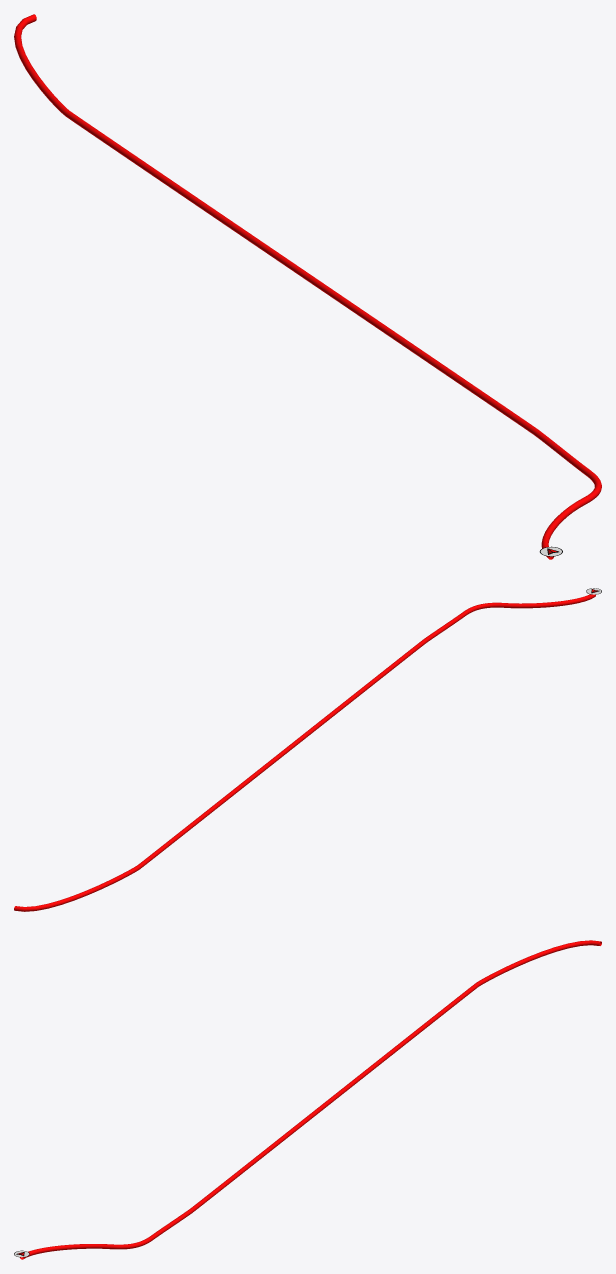
Rendered from route_99d820c2-7baf-4192-a704-b6ee743a397e_de_single.glb.
3 views of the same model, one above another, from view 1: azimuth 30°, elevation 25°; view 2: azimuth 150°, elevation 25°; view 3: azimuth 330°, elevation 25° (orthographic). The views are drawn at different scales.
Parts seen in each view (by area): view 1: B10; view 2: B10; view 3: B10.
Part boxes in pixels (box(x1,y1,x2,y2)): B10: box(14, 14, 601, 559); B10: box(14, 594, 595, 911); B10: box(20, 940, 601, 1259).
Size of the model in its own units: 2.26 by 0.1062 by 15.4.
